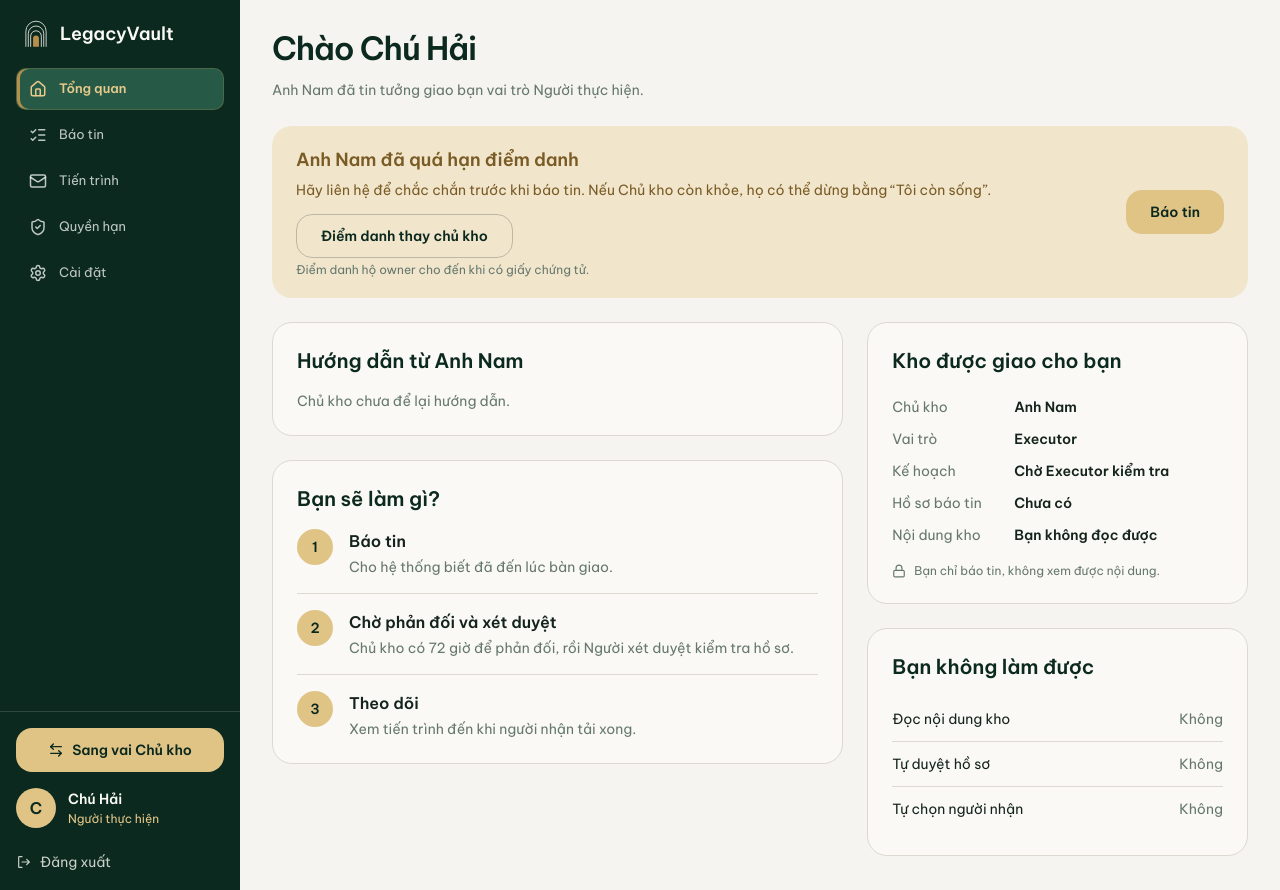
Scenario: Executor overview › explains why the proxy check-in was refused
This screenshot has width=1280, height=890.
Click the button "Điểm danh thay chủ kho".
click(404, 236)  # box [296,214,513,258]
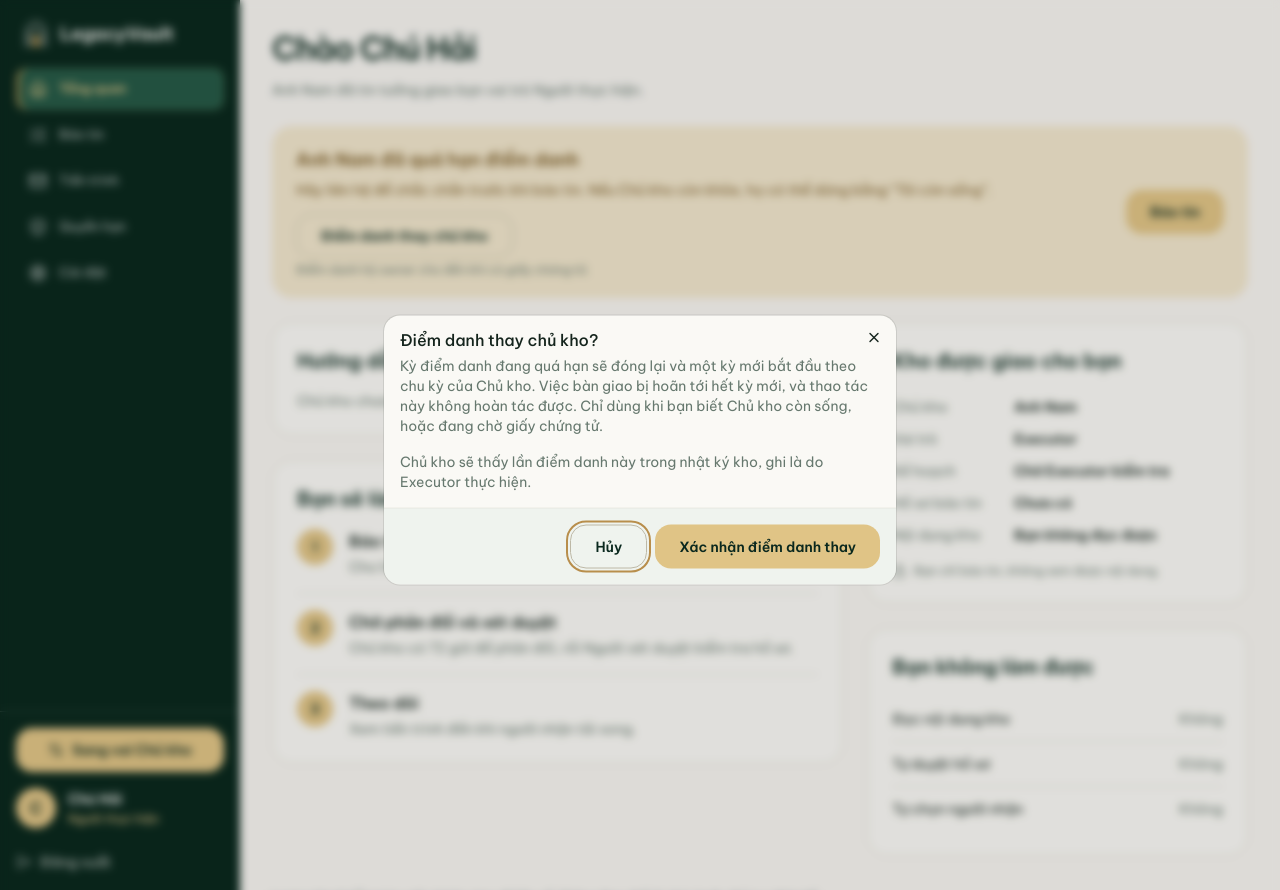
Click the button "Xác nhận điểm danh thay".
click(768, 546)  # box [655,524,880,568]
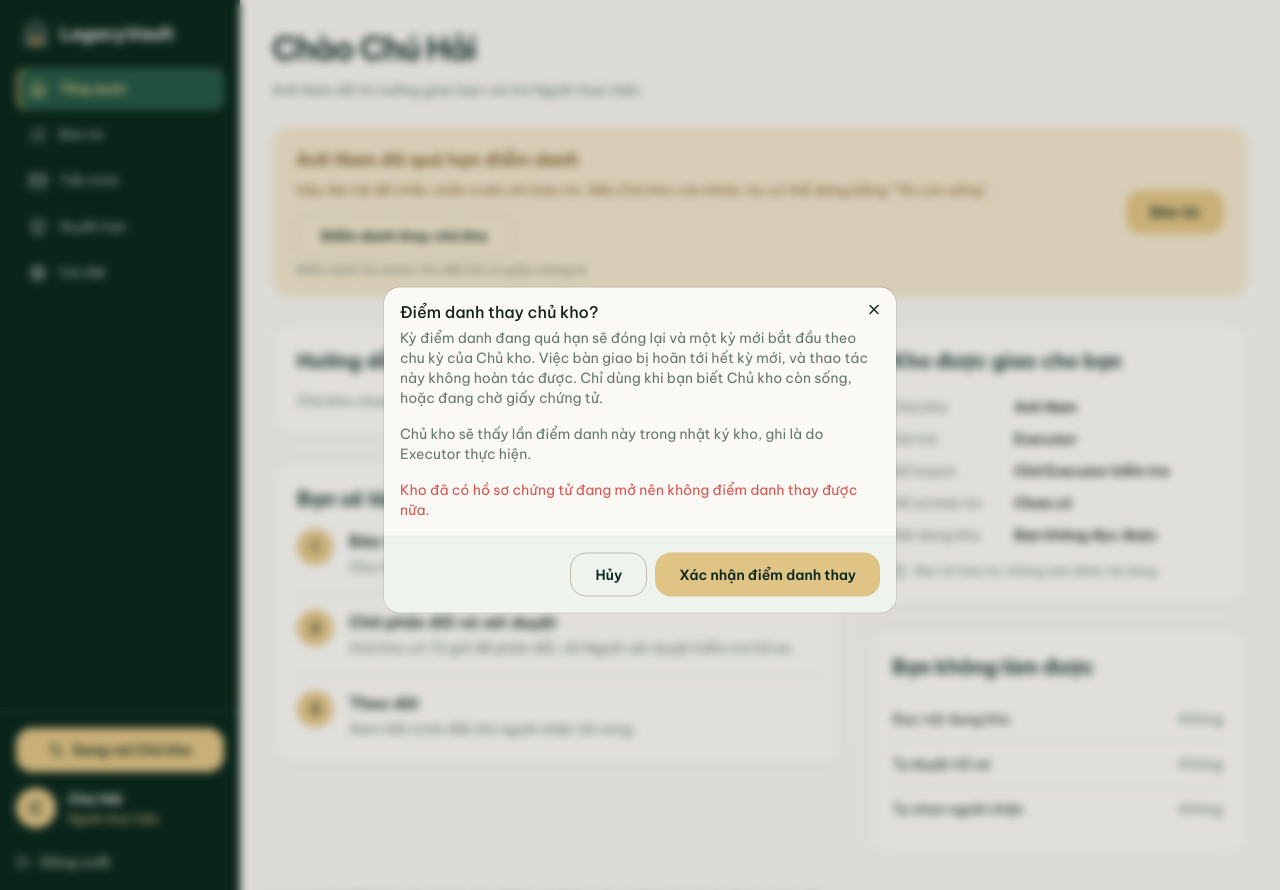
Result: the message reads "Kho đã có hồ sơ chứng tử đang mở nên không điểm danh thay được nữa." at [400,480,857,518]
